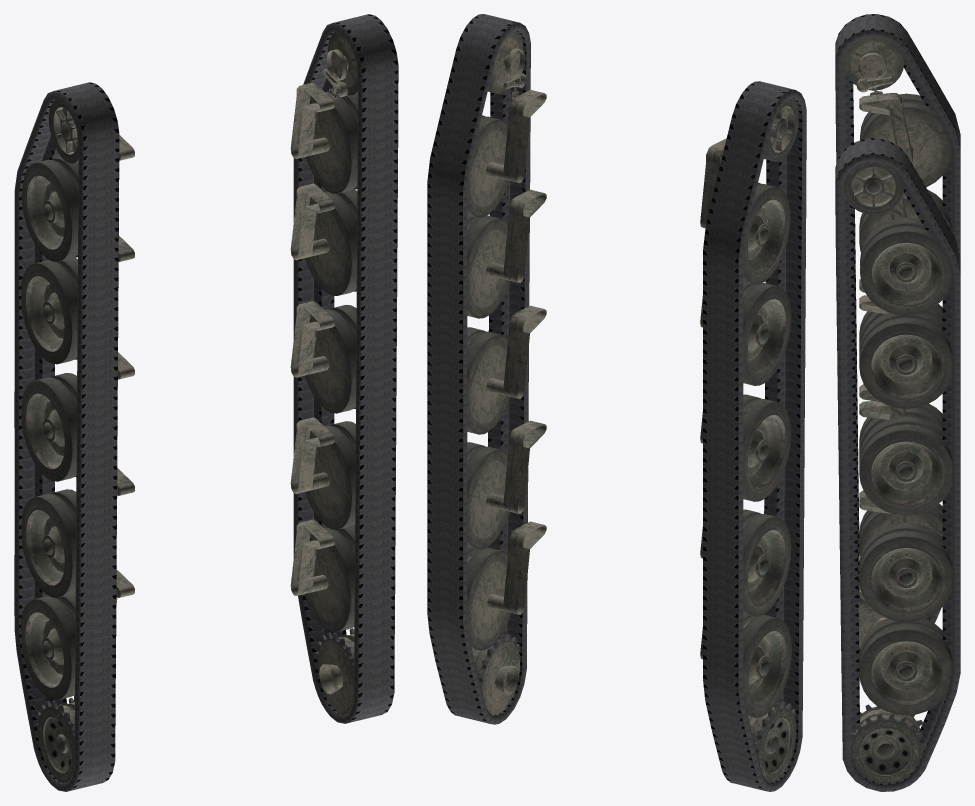
Rendered from Chassis.glb.
The picture shows the model from 3 angles, left to right: view 1: azimuth 30°, elevation 25°; view 2: azimuth 150°, elevation 25°; view 3: azimuth 270°, elevation 25°; orthographic projection. The views are drawn at different scales.
Parts seen in each view (by area): view 1: set_3_group_0, set_1_group_0, set_0_group_0, set_2_group_0; view 2: set_3_group_0, set_1_group_0, set_0_group_0, set_2_group_0; view 3: set_3_group_0, set_0_group_0, set_1_group_0.
Part boxes in pixels (x1,y1,x2,y2): set_3_group_0: (20, 31, 357, 782); set_1_group_0: (14, 82, 119, 791); set_0_group_0: (293, 14, 398, 723); set_2_group_0: (290, 93, 329, 158); set_3_group_0: (467, 31, 798, 782); set_1_group_0: (703, 81, 806, 791); set_0_group_0: (427, 14, 530, 724); set_2_group_0: (486, 114, 529, 182); set_3_group_0: (843, 37, 952, 783); set_0_group_0: (835, 138, 960, 791); set_1_group_0: (835, 14, 960, 655).
Bounding box in the file's own units: 2.85 × 5.97 × 1.06.
4 materials, 4 textured.
